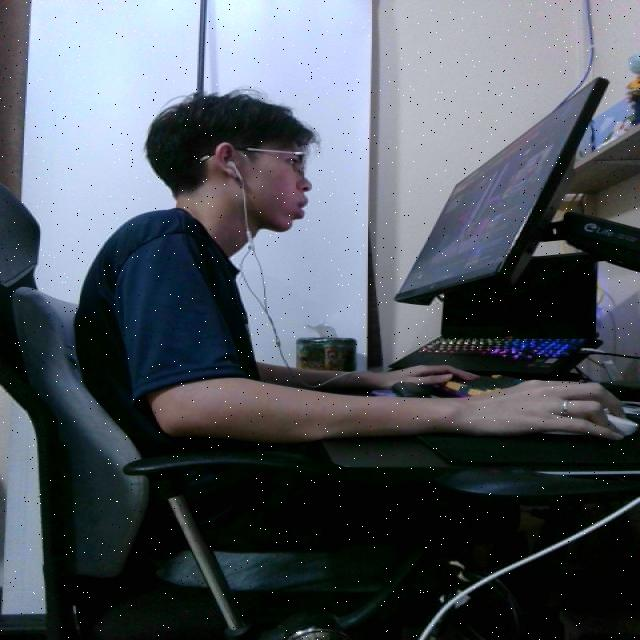Bad: (50, 84, 452, 550)
